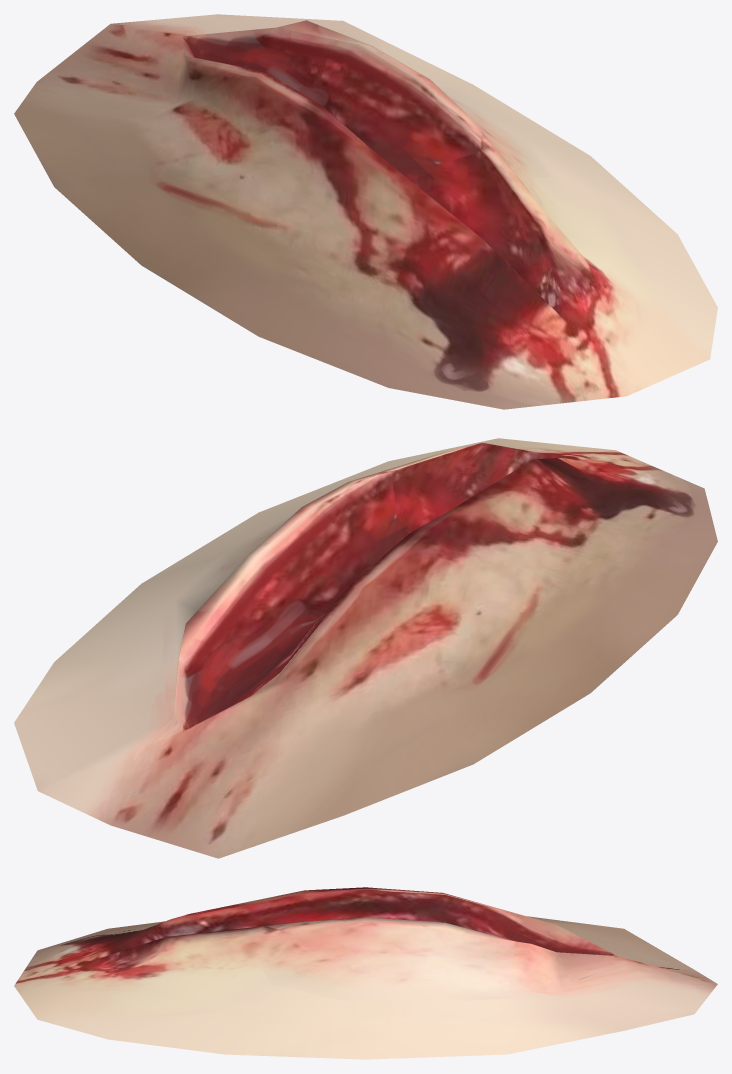
The model's file is wond.fbx.
The picture shows the model from 3 angles, top to bottom: view 1: azimuth 30°, elevation 25°; view 2: azimuth 150°, elevation 25°; view 3: azimuth 270°, elevation 25°; orthographic projection. The views are drawn at different scales.
Visible parts, largest first — view 1: pCube1; view 2: pCube1; view 3: pCube1.
Boxes of the visible parts, x1=… form: pCube1: x1=14, y1=14, x2=717, y2=409; pCube1: x1=14, y1=438, x2=717, y2=858; pCube1: x1=14, y1=887, x2=717, y2=1059.
Size of the model in its own units: 1.86 by 0.5698 by 3.67.
1 material, 1 textured.
